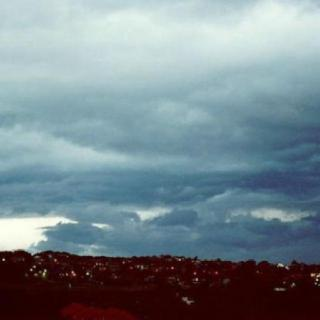Stratus: (0, 0, 320, 246)
